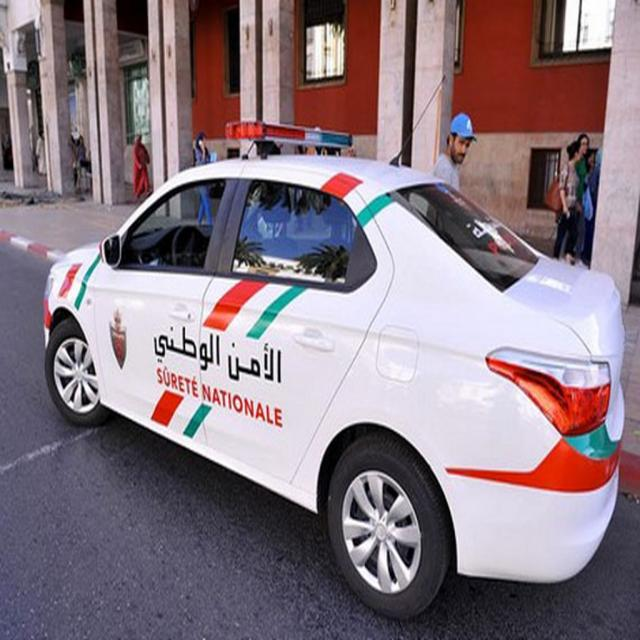ambulance: (37, 113, 625, 605)
